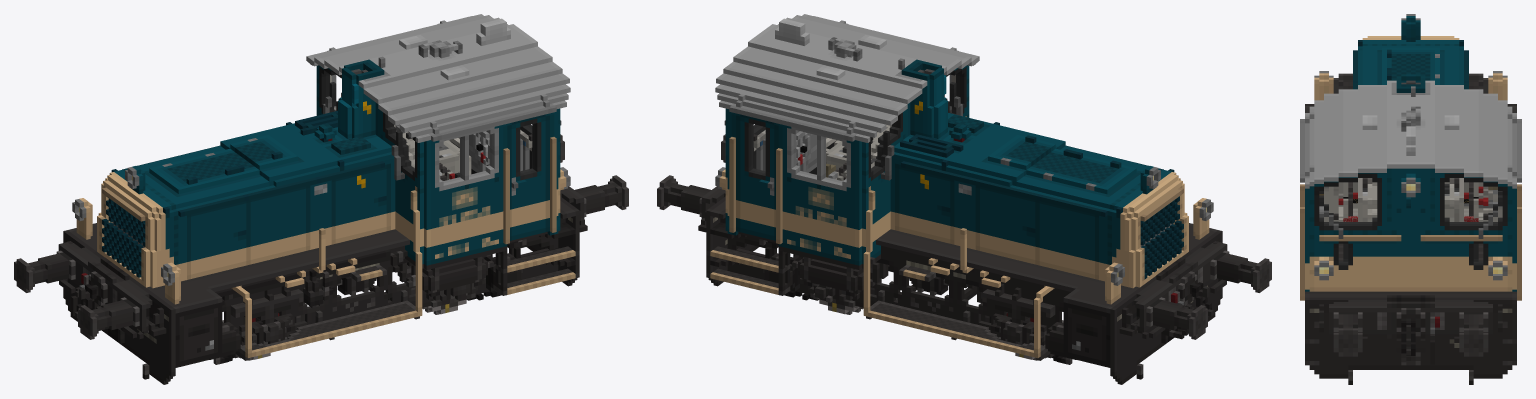
The picture shows the model from 3 angles, left to right: view 1: azimuth 30°, elevation 25°; view 2: azimuth 150°, elevation 25°; view 3: azimuth 270°, elevation 25°; orthographic projection.
Parts seen in each view (by area): view 1: FRAME_3, FRAME_1, FRAME_2, Motor_Cover_2, DOOR_1_EXTERNAL, Abogus_Cover, Motor_Cover_1, INTERIOR_1_LCG_cab1, Brake_Rigging; view 2: FRAME_3, FRAME_1, FRAME_2, Motor_Cover_2, DOOR_2_EXTERNAL, Abogus_Cover, Motor_Cover_1, INTERIOR_1_LCG_cab1, Brake_Rigging; view 3: FRAME_3, FRAME_1, INTERIOR_1_LCG_cab1, THROTTLE_1_INTERIOR_LCG_cab1-1, THROTTLE_2_INTERIOR_LCG_cab1, REVERSER_2_INTERIOR_LCG_cab1.
Part boxes in pixels (x1,y1,x2,y2): FRAME_3: [72, 14, 570, 304]; FRAME_1: [14, 134, 628, 384]; FRAME_2: [209, 190, 526, 364]; Motor_Cover_2: [246, 185, 310, 265]; DOOR_1_EXTERNAL: [507, 114, 549, 240]; Abogus_Cover: [331, 163, 390, 244]; Motor_Cover_1: [187, 201, 246, 279]; INTERIOR_1_LCG_cab1: [326, 73, 547, 242]; Brake_Rigging: [294, 262, 415, 322]; FRAME_3: [715, 14, 1213, 304]; FRAME_1: [657, 134, 1271, 384]; FRAME_2: [759, 190, 1076, 364]; Motor_Cover_2: [975, 185, 1039, 265]; DOOR_2_EXTERNAL: [736, 114, 778, 240]; Abogus_Cover: [895, 163, 954, 244]; Motor_Cover_1: [1039, 201, 1098, 279]; INTERIOR_1_LCG_cab1: [738, 73, 959, 242]; Brake_Rigging: [870, 262, 991, 322]; FRAME_3: [1300, 14, 1521, 300]; FRAME_1: [1305, 73, 1516, 384]; INTERIOR_1_LCG_cab1: [1319, 178, 1502, 263]; THROTTLE_1_INTERIOR_LCG_cab1-1: [1348, 182, 1357, 216]; THROTTLE_2_INTERIOR_LCG_cab1: [1464, 182, 1473, 216]; REVERSER_2_INTERIOR_LCG_cab1: [1338, 198, 1357, 221].
Bounding box in the file's own units: 7.88 × 3.5 × 2.88.
1 material, 1 textured.
